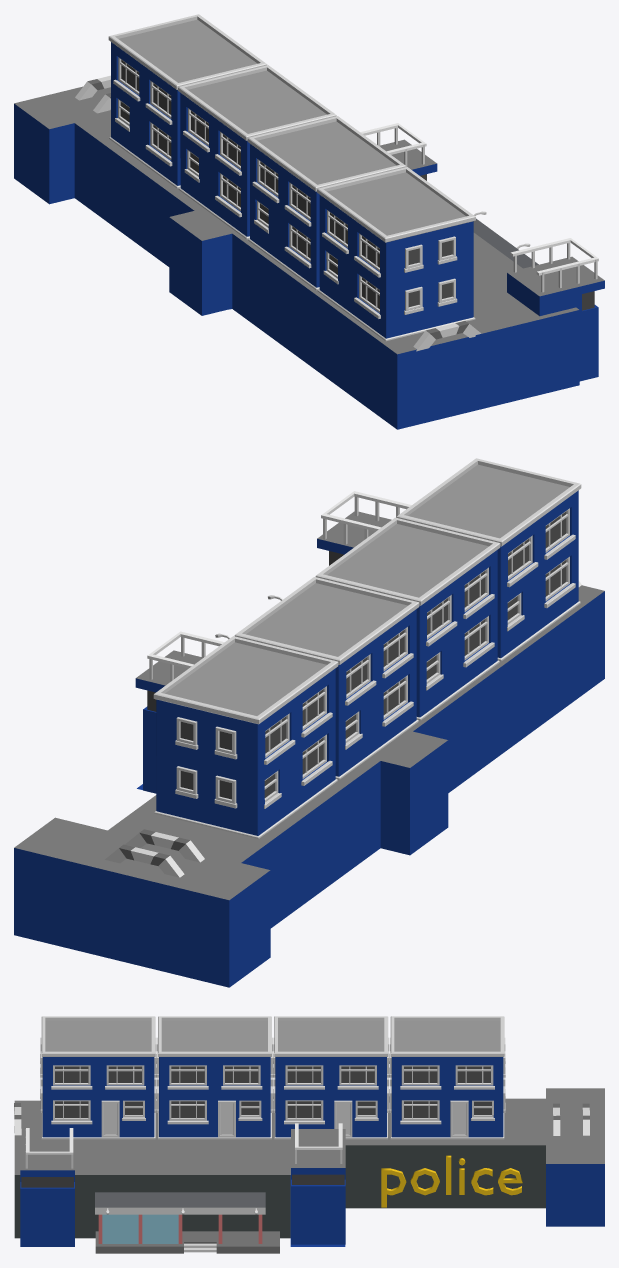
File: Police_Station.glb
3 renders of one model, top to bottom at view 1: azimuth 30°, elevation 25°; view 2: azimuth 150°, elevation 25°; view 3: azimuth 270°, elevation 25°, orthographic. The views are drawn at different scales.
Parts seen in each view (by area): view 1: London Police Service Headquarters, 601 Dundas St, London, O, Cube.634, Cube.7167, Cube.7164; view 2: London Police Service Headquarters, 601 Dundas St, London, O, Cube.7170, Cube.7169, Cube.7164, Cube.7163; view 3: London Police Service Headquarters, 601 Dundas St, London, O, Cube.634, Cube.635, Cube.638, Text.024, Cube.637, Cube.7163, Cube.7164, Cube.639.
Part boxes in pixels (bbox=[...]): London Police Service Headquarters, 601 Dundas St, London, O: bbox=[14, 14, 604, 429]; Cube.634: bbox=[473, 218, 538, 268]; Cube.7167: bbox=[413, 321, 481, 351]; Cube.7164: bbox=[510, 238, 598, 275]; London Police Service Headquarters, 601 Dundas St, London, O: bbox=[14, 458, 604, 987]; Cube.7170: bbox=[125, 829, 204, 862]; Cube.7169: bbox=[105, 844, 184, 877]; Cube.7164: bbox=[321, 491, 411, 531]; Cube.7163: bbox=[147, 631, 224, 668]; London Police Service Headquarters, 601 Dundas St, London, O: bbox=[14, 1016, 604, 1246]; Cube.634: bbox=[95, 1192, 265, 1214]; Cube.635: bbox=[95, 1231, 279, 1253]; Cube.638: bbox=[102, 1214, 178, 1243]; Text.024: bbox=[381, 1155, 522, 1207]; Cube.637: bbox=[98, 1214, 262, 1243]; Cube.7163: bbox=[295, 1123, 342, 1149]; Cube.7164: bbox=[26, 1128, 73, 1154]; Cube.639: bbox=[184, 1243, 216, 1252].
Size of the model in its own units: 0.3055 by 0.1977 by 0.7087.
